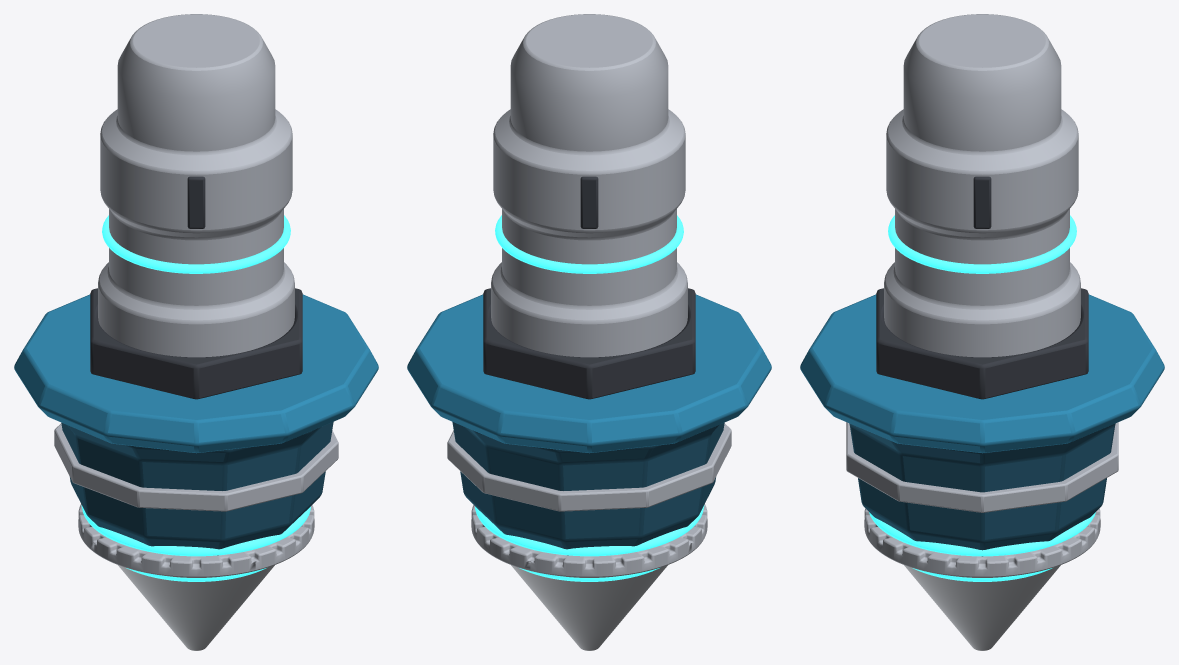
Rendered from nadel.glb.
3 renders of one model, left to right at view 1: azimuth 30°, elevation 25°; view 2: azimuth 150°, elevation 25°; view 3: azimuth 270°, elevation 25°, orthographic.
Parts seen in each view (by area): view 1: Schaft, Flansch, Gehaeuse, Kragen, Metallband, Kontakt, Fussring, Schaftleuchte, Fussleuchte.001, Rippe.010; view 2: Schaft, Flansch, Gehaeuse, Kragen, Metallband, Kontakt, Fussring, Schaftleuchte, Fussleuchte.001, Rippe.009; view 3: Schaft, Flansch, Gehaeuse, Kragen, Metallband, Kontakt, Fussring, Schaftleuchte, Fussleuchte.001, Rippe.008.
Part boxes in pixels (x1,y1,x2,y2): Schaft: (98, 14, 294, 357); Flansch: (14, 294, 378, 453); Gehaeuse: (61, 422, 333, 555); Kragen: (90, 288, 302, 399); Metallband: (54, 423, 338, 511); Kontakt: (118, 565, 274, 650); Fussring: (78, 504, 314, 577); Schaftleuchte: (102, 215, 290, 273); Fussleuchte.001: (81, 505, 310, 556); Rippe.010: (187, 176, 205, 228); Schaft: (491, 14, 687, 357); Flansch: (407, 294, 771, 453); Gehaeuse: (452, 422, 724, 555); Kragen: (483, 288, 695, 399); Metallband: (447, 423, 731, 511); Kontakt: (511, 565, 667, 650); Fussring: (471, 504, 707, 577); Schaftleuchte: (495, 215, 683, 273); Fussleuchte.001: (475, 505, 704, 556); Rippe.009: (580, 176, 598, 228); Schaft: (884, 14, 1080, 357); Flansch: (800, 294, 1164, 453); Gehaeuse: (849, 423, 1115, 556); Kragen: (876, 288, 1088, 399); Metallband: (846, 422, 1118, 512); Kontakt: (904, 565, 1060, 650); Fussring: (864, 508, 1100, 577); Schaftleuchte: (888, 215, 1076, 273); Fussleuchte.001: (869, 512, 1095, 556); Rippe.008: (973, 176, 991, 228).
Bounding box in the file's own units: 0.1668 × 0.3059 × 0.1668.
